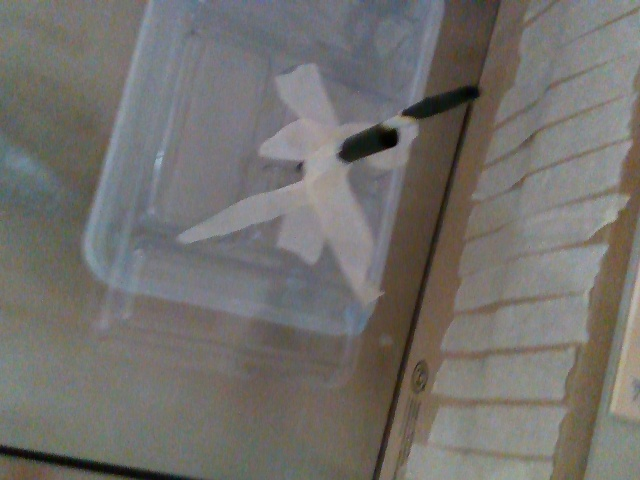test_strip: (380, 82, 483, 132)
